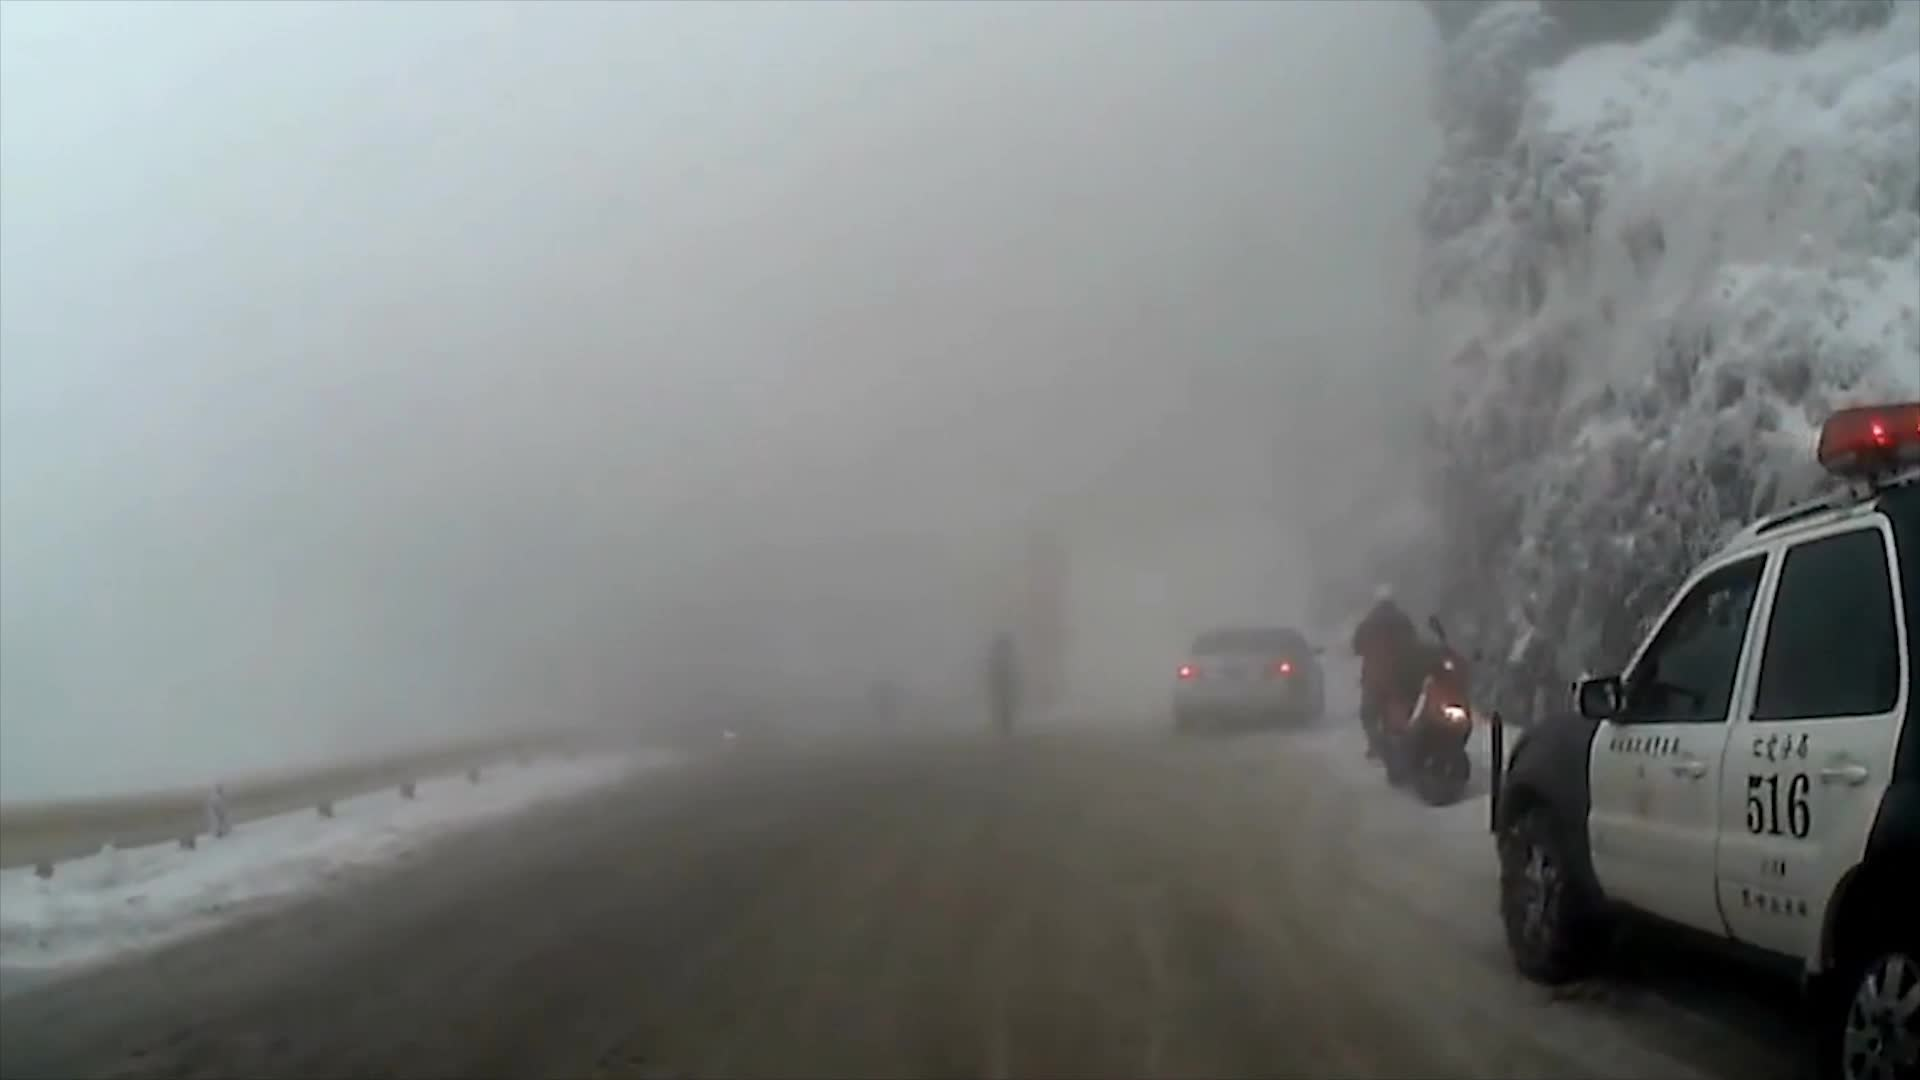pedestrian: (1344, 585, 1424, 761), (987, 630, 1022, 749)
vehicle: (1486, 398, 1914, 1080), (1172, 623, 1328, 740)
